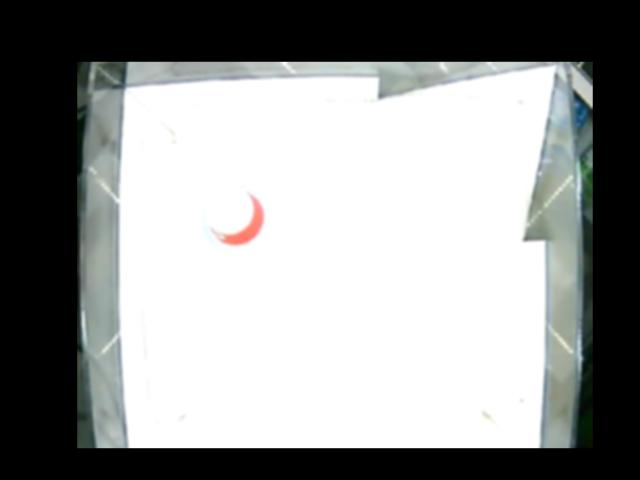Cup: (201, 184, 270, 253)
